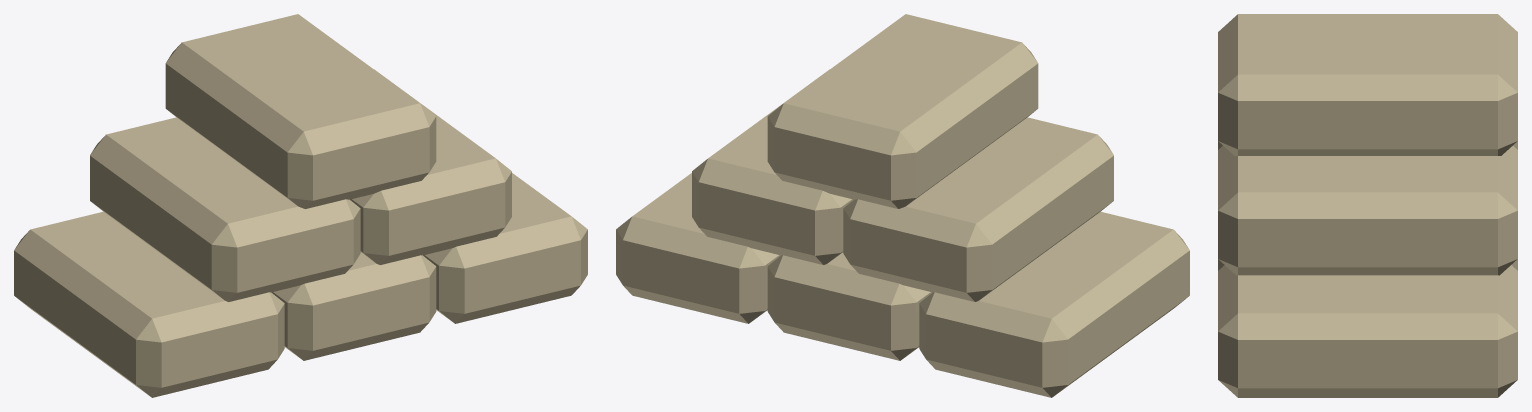
Rendered from sandbag.glb.
3 renders of one model, left to right at view 1: azimuth 30°, elevation 25°; view 2: azimuth 150°, elevation 25°; view 3: azimuth 270°, elevation 25°, orthographic. The views are drawn at different scales.
Parts seen in each view (by area): view 1: sandbag; view 2: sandbag; view 3: sandbag.
Boxes of the visible parts, bbox=[...] form: sandbag: bbox=[14, 14, 587, 397]; sandbag: bbox=[616, 14, 1189, 397]; sandbag: bbox=[1218, 14, 1517, 397].
Size of what is drawn, in the model's own units: 1.67 by 0.81 by 0.9.
